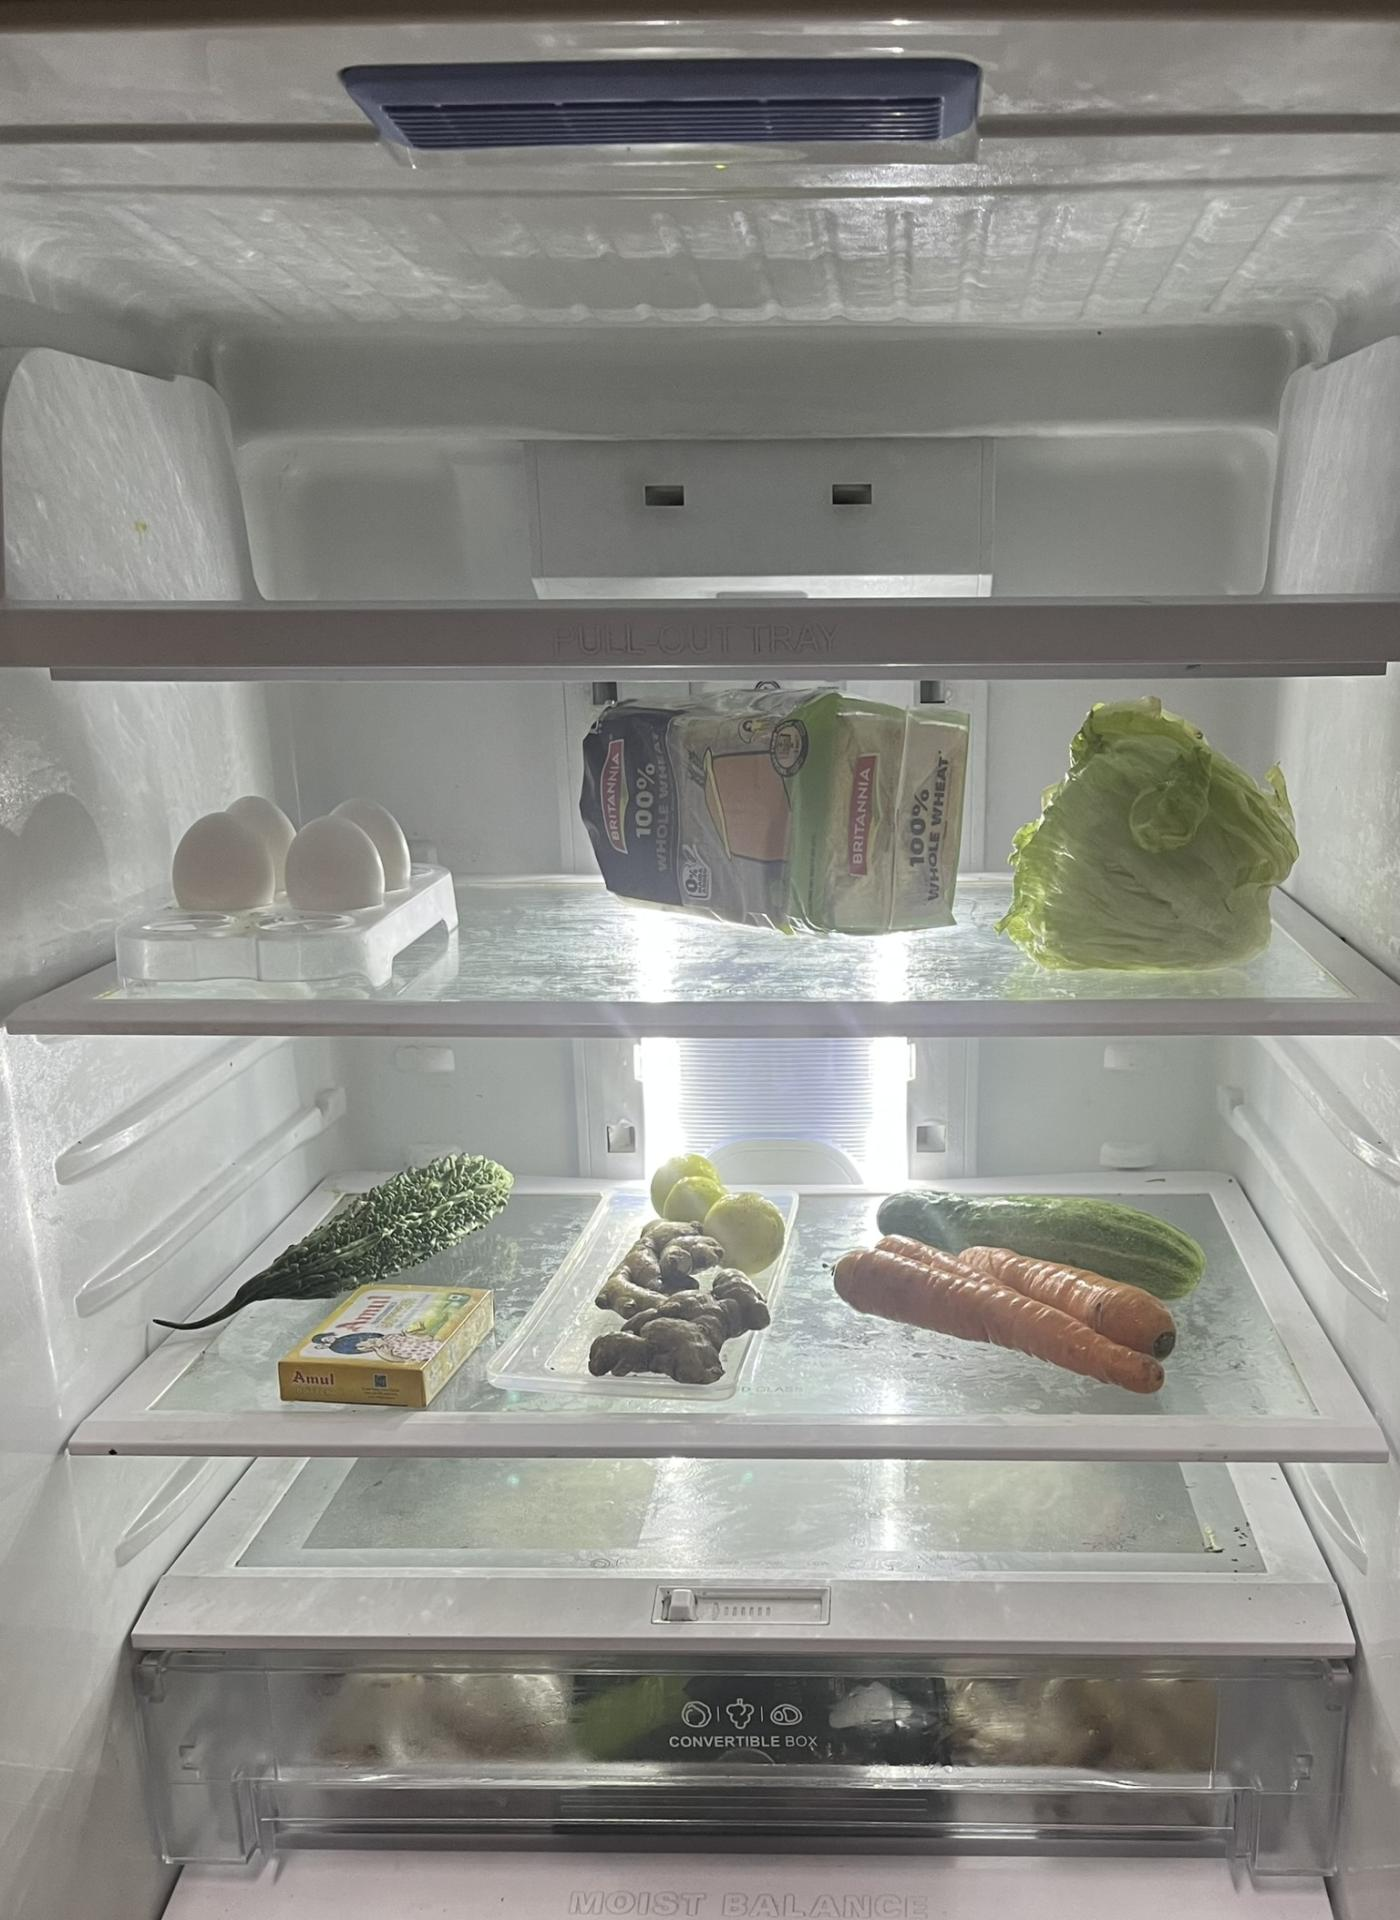bread: (568, 681, 975, 941)
butter: (280, 1275, 495, 1416)
carrots: (832, 1240, 1182, 1400)
cucumber: (869, 1191, 1221, 1285)
egg: (164, 793, 422, 932)
ginger: (589, 1237, 762, 1391)
lemon: (641, 1157, 796, 1269)
lettuce: (1002, 695, 1312, 975)
